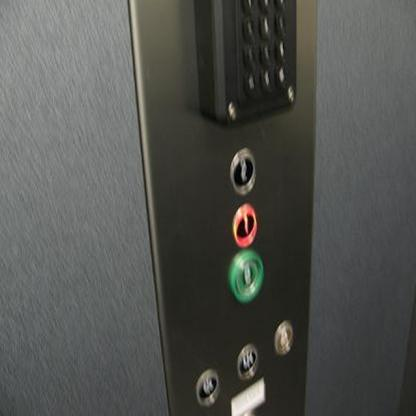1: (230, 198, 258, 249)
alarm: (272, 317, 295, 356)
blur: (226, 250, 266, 303), (227, 142, 258, 196), (193, 364, 221, 406)
close: (234, 340, 260, 380)
